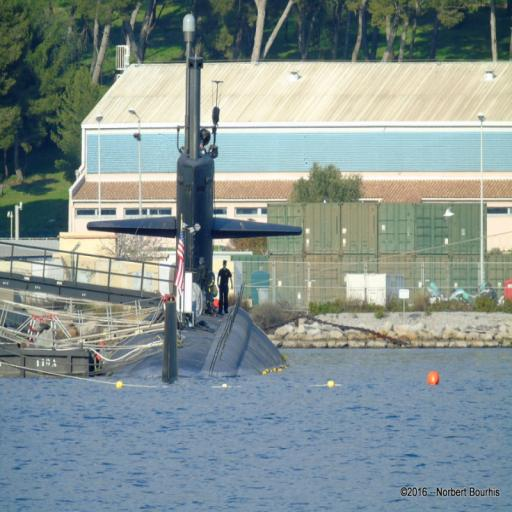submarine: (87, 55, 305, 385)
